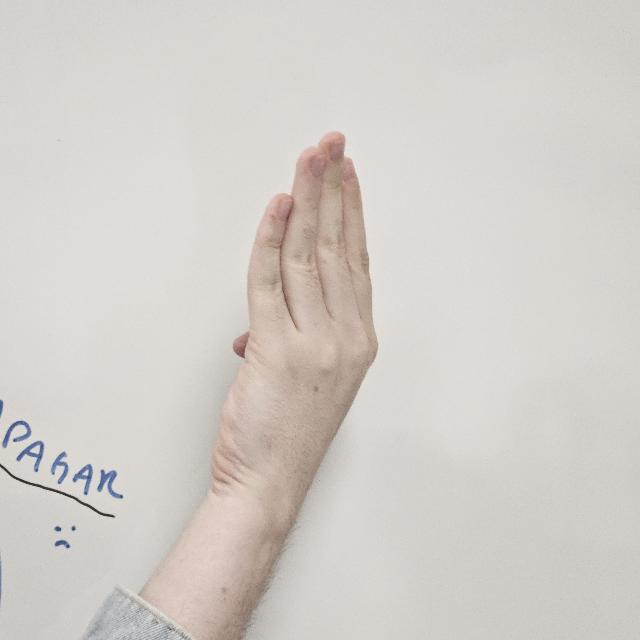Baixo: (219, 135, 375, 533)
